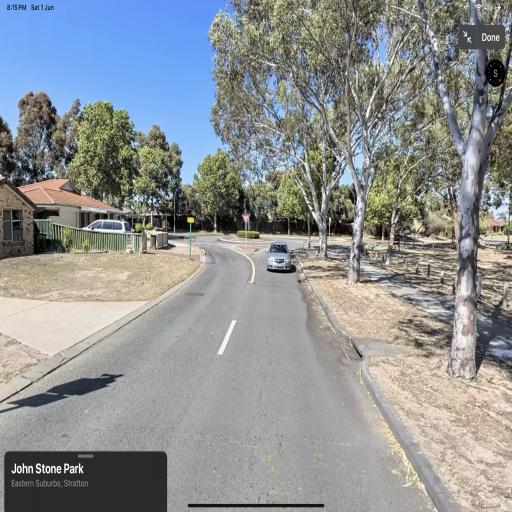Roads: (19, 195, 454, 504)
Trees: (202, 4, 512, 399), (24, 65, 186, 277)
